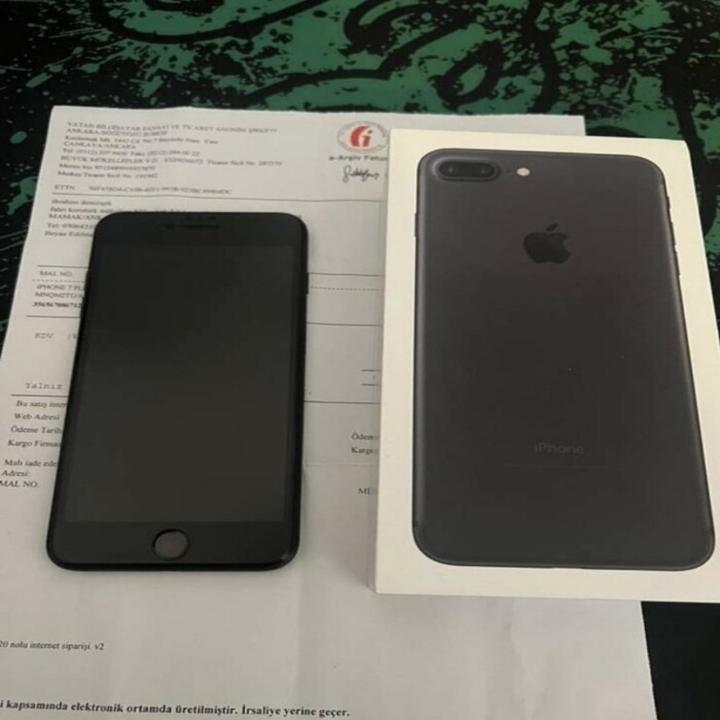phone good: (37, 197, 314, 603)
